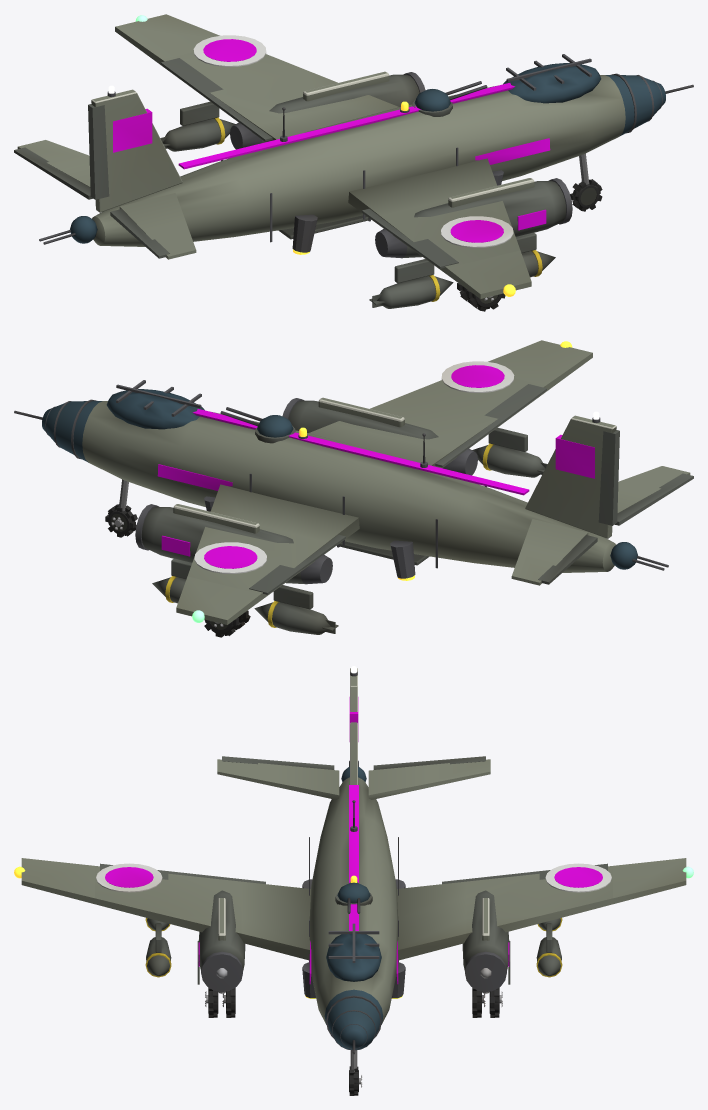
File: bomber.glb
3 views of the same model, one above another, from view 1: azimuth 30°, elevation 25°; view 2: azimuth 150°, elevation 25°; view 3: azimuth 270°, elevation 25° (orthographic). The views are drawn at different scales.
Visible parts, largest first — view 1: Body, LandingGearN, LandingGearR; view 2: Body, LandingGearN, LandingGearL; view 3: Body, LandingGearL, LandingGearR.
Part boxes in pixels (left/top/right/bottom): Body: left=14, top=14, right=693, bottom=308; LandingGearN: left=570, top=153, right=602, bottom=211; LandingGearR: left=457, top=283, right=505, bottom=311; Body: left=14, top=340, right=693, bottom=634; LandingGearN: left=105, top=479, right=137, bottom=537; LandingGearL: left=204, top=610, right=250, bottom=637; Body: left=14, top=666, right=693, bottom=1054; LandingGearL: left=472, top=987, right=502, bottom=1017; LandingGearR: left=205, top=987, right=235, bottom=1017.
Size of the model in its own units: 7 by 2.46 by 6.96.
Materials: 1 (1 with a texture image).
